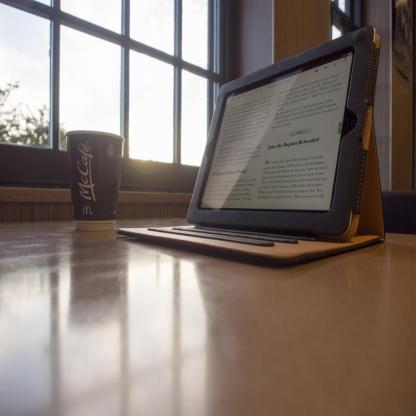board: (118, 25, 385, 265)
